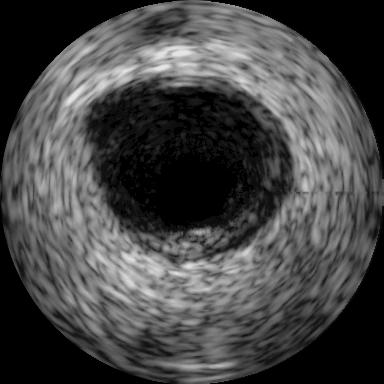Lumen: (151, 149, 240, 226)
